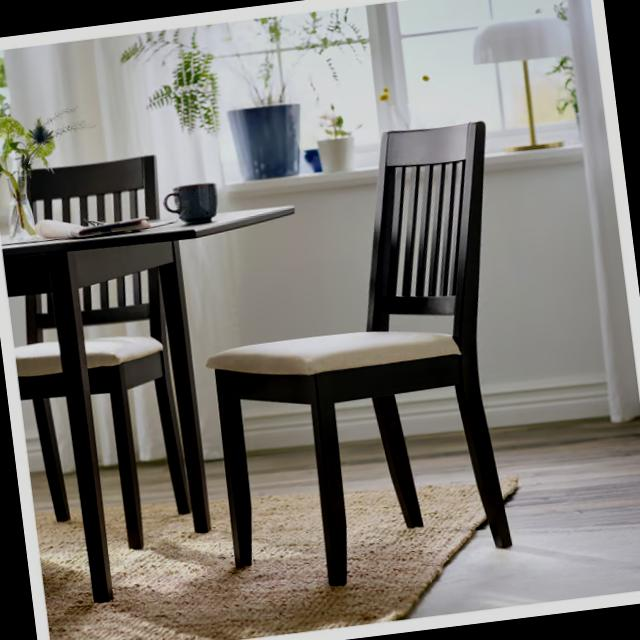Chair: (198, 111, 529, 600)
